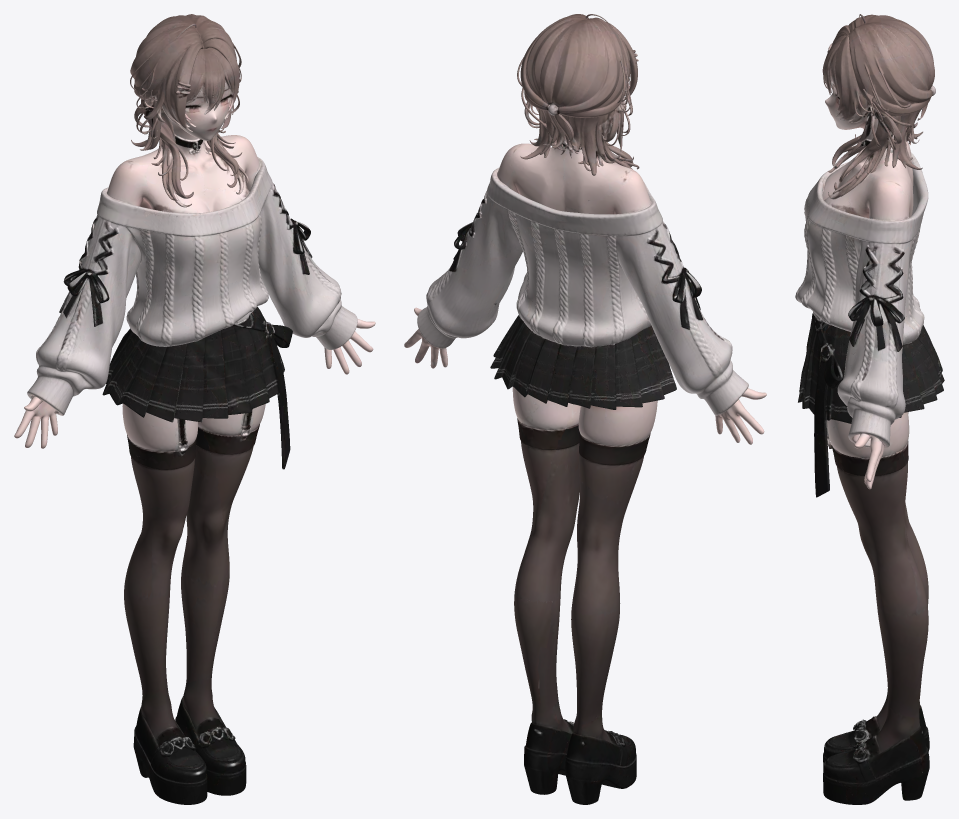
The model's file is nielmodel.glb.
3 views of the same model, side by side, from view 1: azimuth 30°, elevation 25°; view 2: azimuth 150°, elevation 25°; view 3: azimuth 270°, elevation 25° (orthographic).
Bounding box in the file's own units: 0.934 × 1.9 × 0.335.
1 material, 1 textured.
